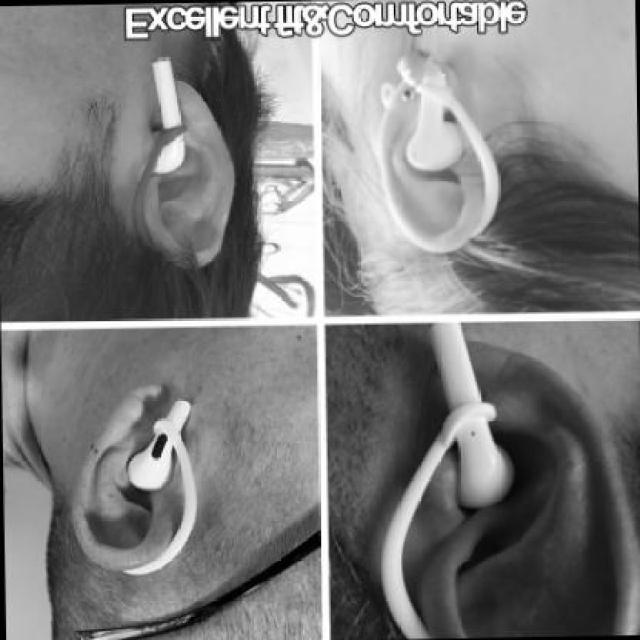earphone: (390, 306, 542, 538), (118, 17, 198, 193), (123, 388, 212, 518), (395, 53, 460, 214)
